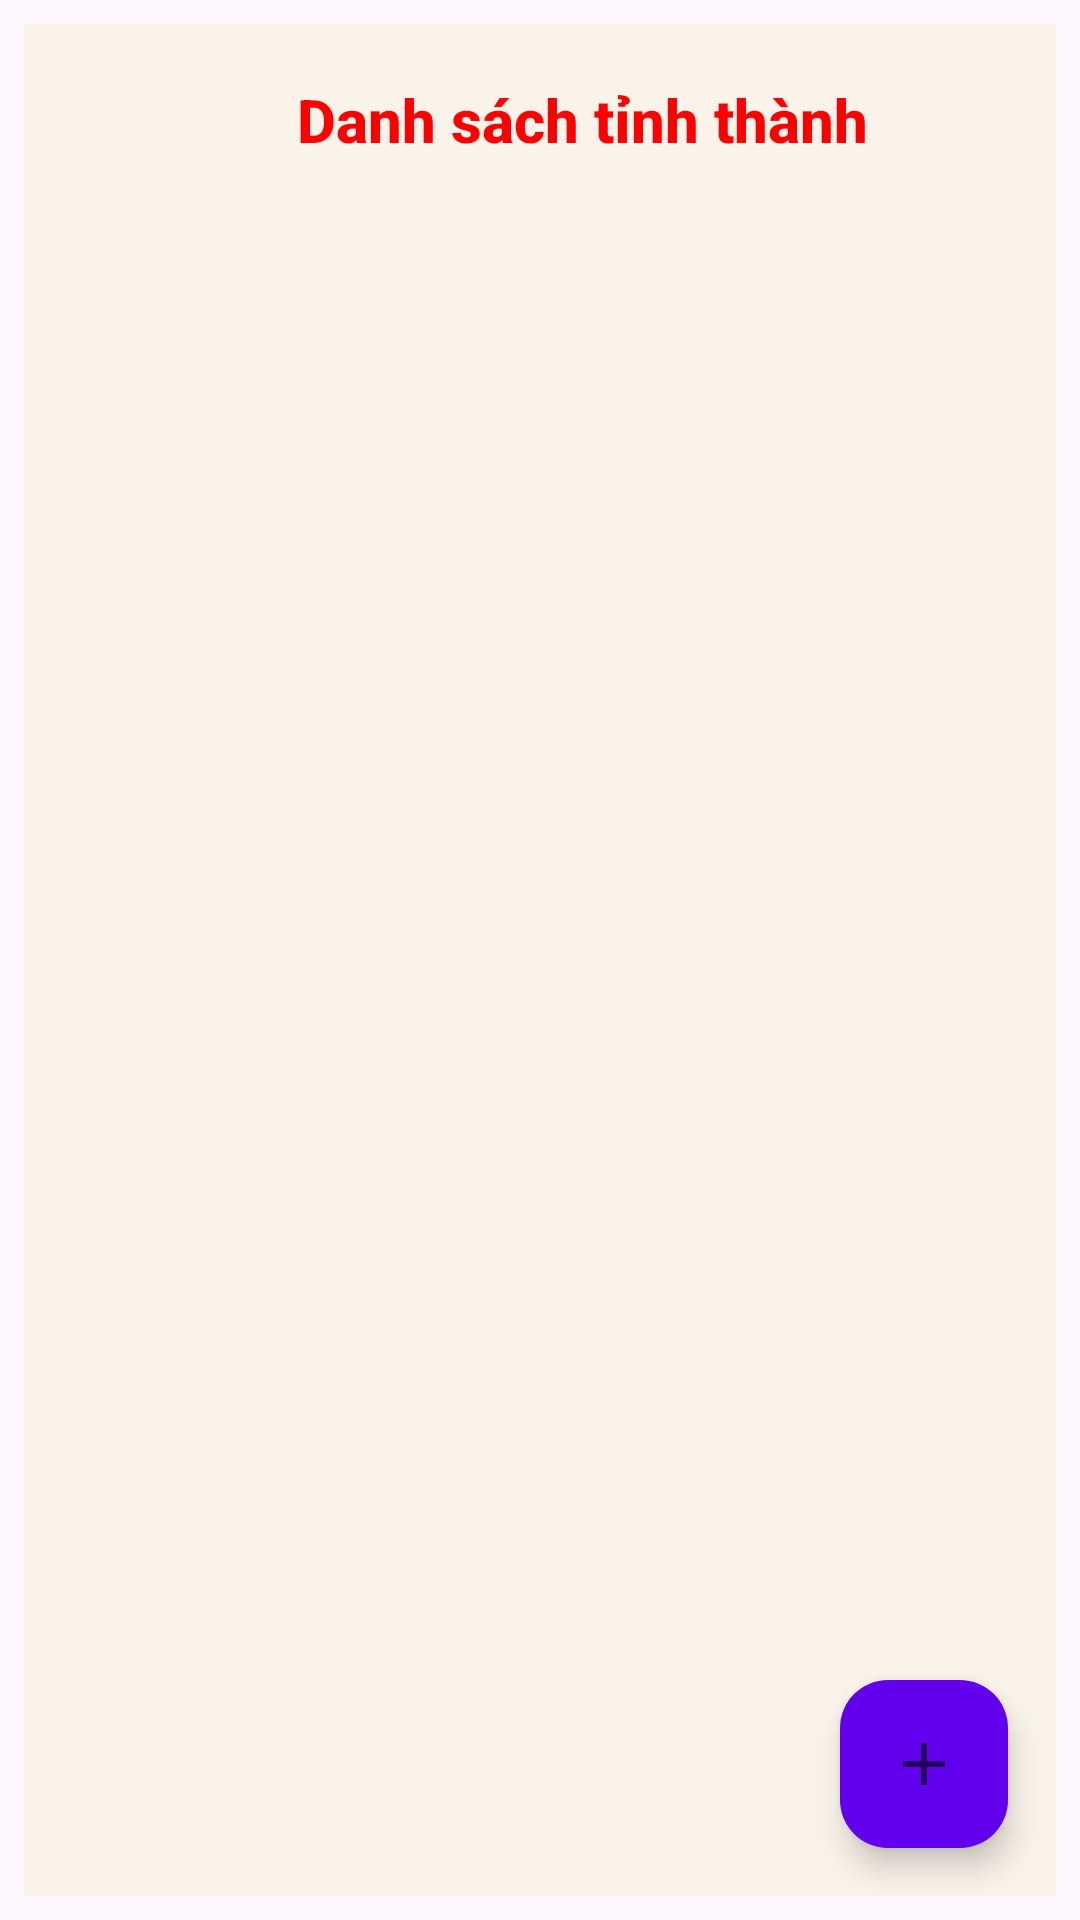

Named icons in this screenshot (1080 × 1920) and their bounding boxes, (x1, y1, x2, y2):
Thêm tỉnh: (840, 1680, 1008, 1848)
